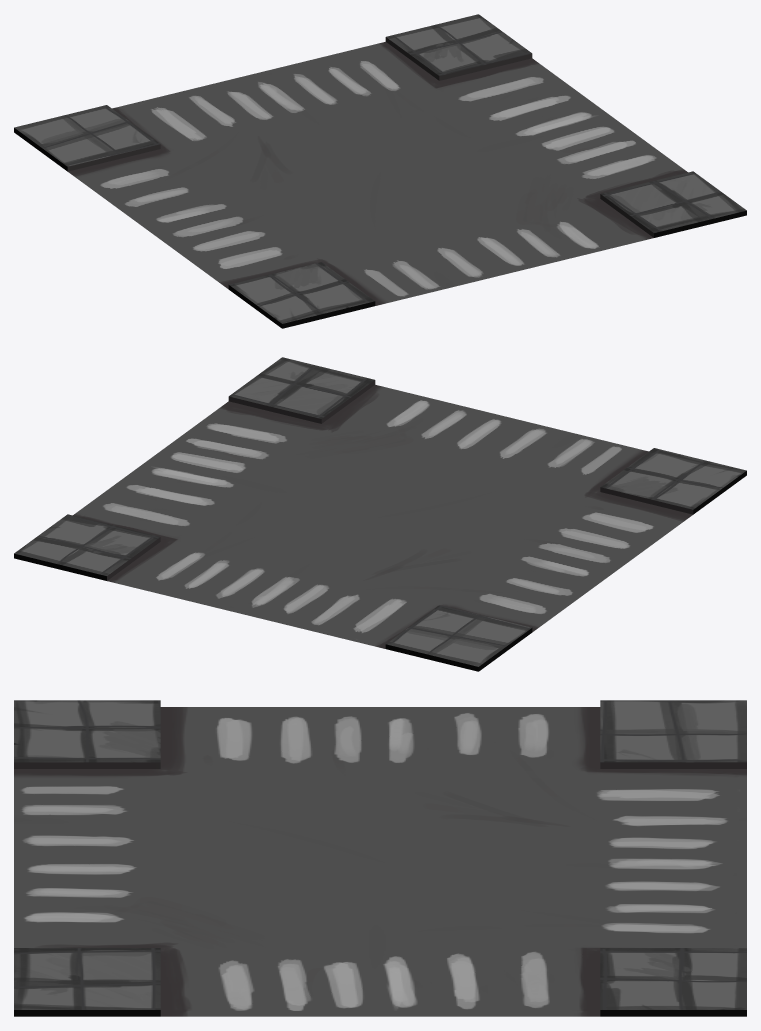
The model's file is ulica-skrzyzowanie.fbx.
The picture shows the model from 3 angles, top to bottom: view 1: azimuth 30°, elevation 25°; view 2: azimuth 150°, elevation 25°; view 3: azimuth 270°, elevation 25°; orthographic projection. The views are drawn at different scales.
Visible parts, largest first — view 1: Plane; view 2: Plane; view 3: Plane.
Part boxes in pixels (box(x1,y1,x2,y2)): Plane: box(14, 14, 746, 328); Plane: box(14, 357, 746, 671); Plane: box(14, 700, 746, 1016).
Size of the model in its own units: 1000 by 10 by 1000.
